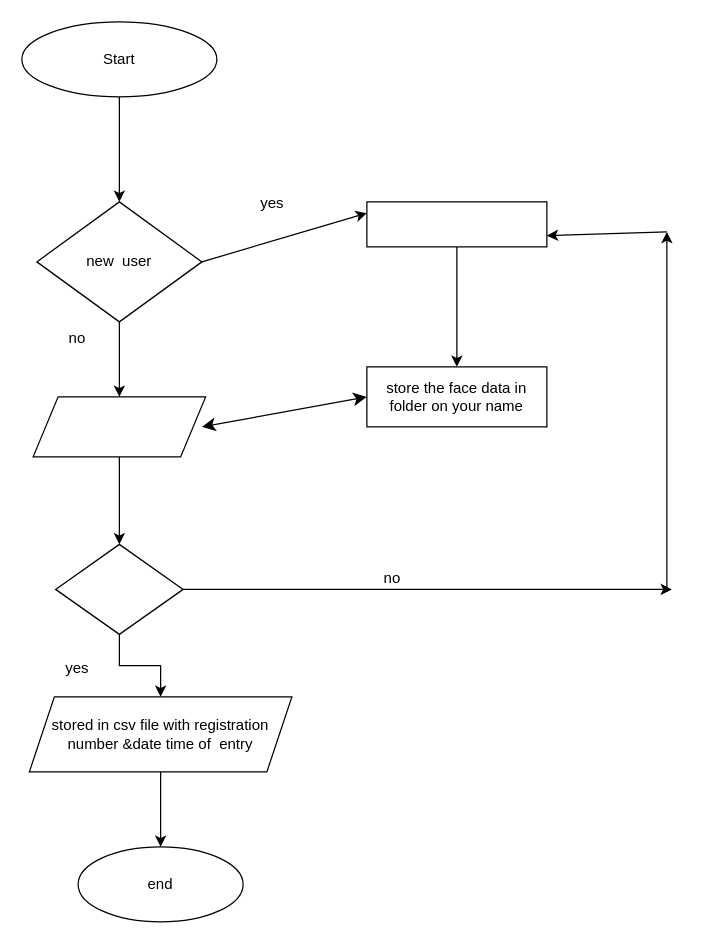
Image size: 704x944. Some labels were removed from this diagram. The centre of each missing label's shape, as x and y in pixels:
"face recorgnized" belongs at (118,588).
"give your photograph" belongs at (456,224).
"recorgnize the face" belongs at (119,426).
